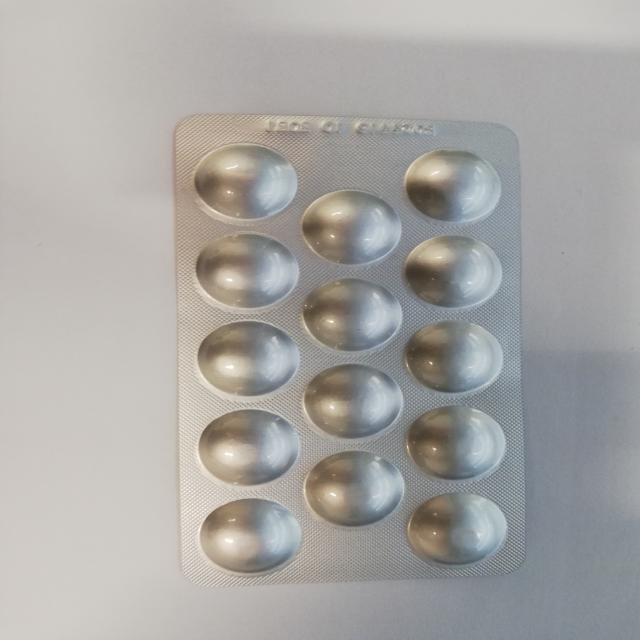Pill: (183, 140, 300, 221), (406, 405, 518, 489), (406, 496, 524, 575), (193, 404, 298, 492), (191, 498, 307, 576), (304, 447, 409, 532), (195, 319, 296, 402), (306, 274, 408, 356), (300, 364, 407, 439), (398, 146, 502, 222), (292, 192, 406, 260), (408, 319, 508, 396), (196, 236, 289, 313), (411, 239, 502, 314)
